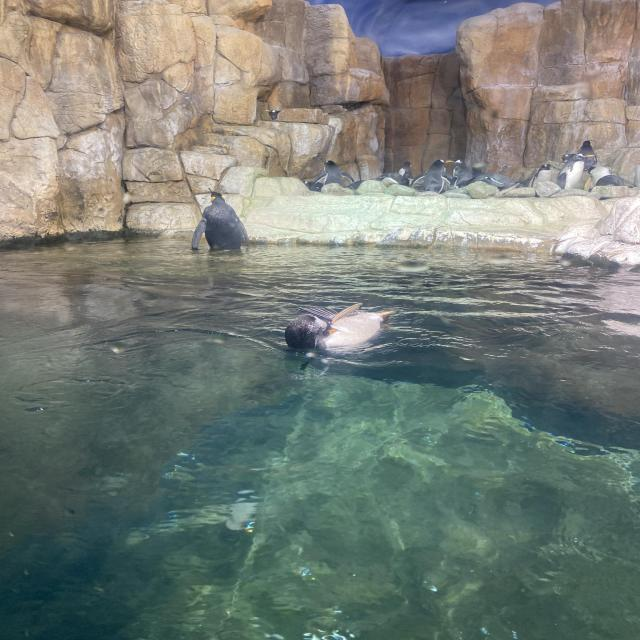penguin: (283, 302, 395, 352), (189, 188, 251, 256), (312, 160, 354, 194), (556, 153, 594, 189), (455, 173, 530, 190), (414, 158, 450, 192), (584, 166, 614, 192), (446, 160, 472, 188), (531, 164, 555, 188), (578, 141, 596, 170), (378, 172, 408, 184), (595, 175, 624, 186), (398, 162, 412, 180), (559, 154, 579, 164), (633, 160, 639, 187)
